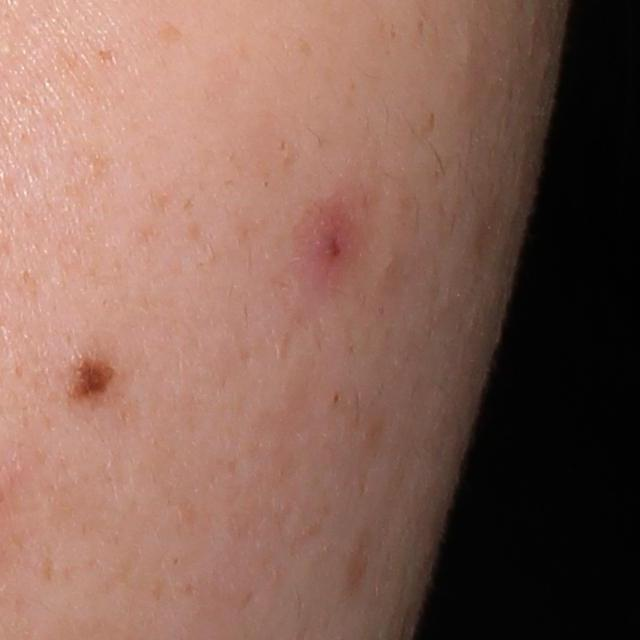melasma: (149, 18, 184, 49), (99, 47, 118, 66)
nevus: (68, 345, 128, 402)
papule: (302, 202, 355, 274)
